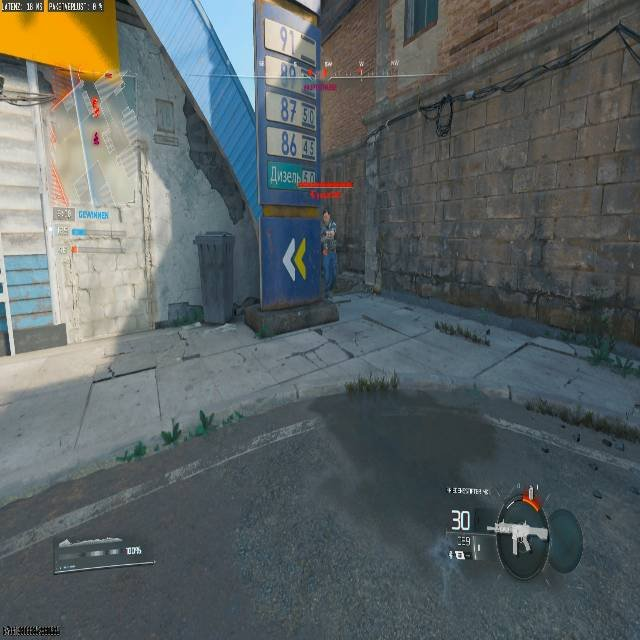head: (321, 208, 329, 220)
player: (319, 209, 339, 296), (319, 208, 337, 255)
